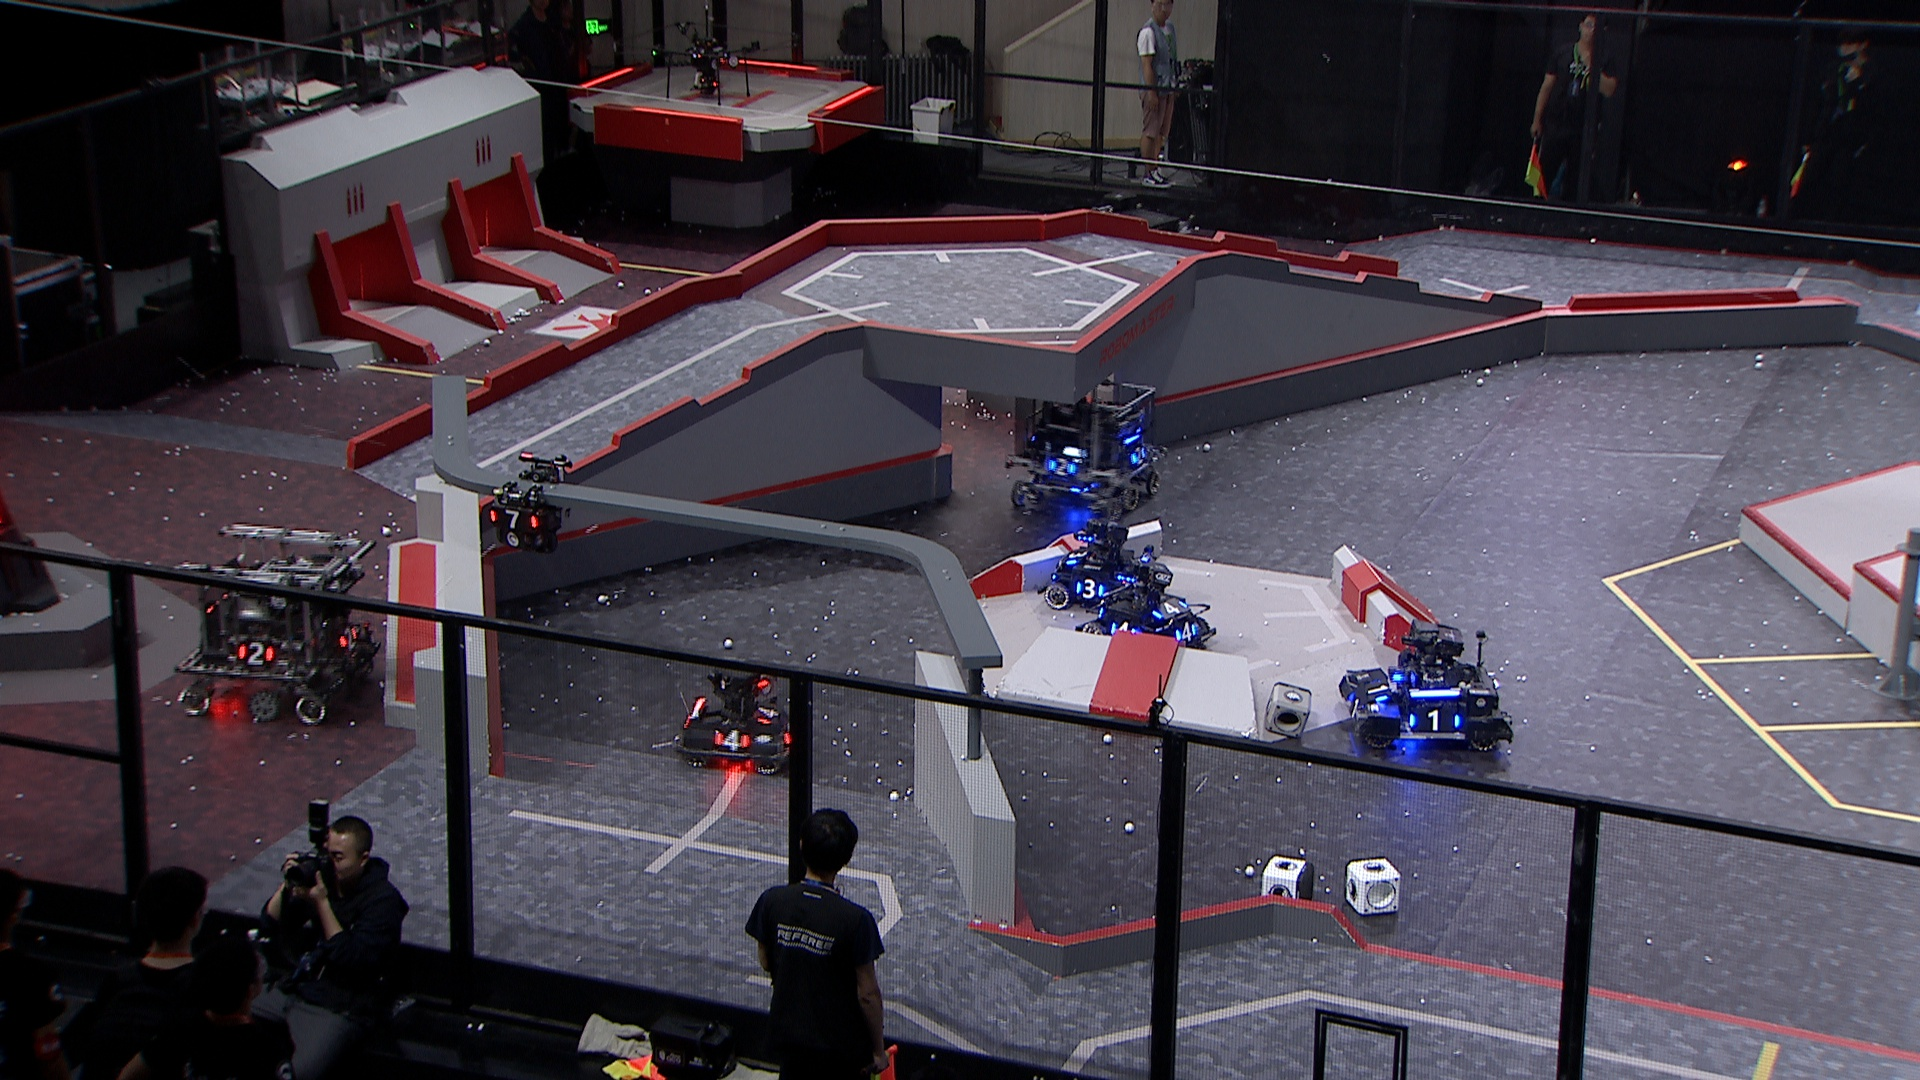armor: (1408, 705, 1462, 736), (485, 506, 541, 533), (1357, 673, 1394, 707), (712, 727, 754, 754), (749, 694, 783, 727), (237, 641, 276, 666), (1072, 578, 1109, 603), (1106, 616, 1139, 644), (334, 622, 361, 654), (1153, 597, 1188, 621), (1060, 542, 1091, 567), (1044, 456, 1077, 479), (1174, 621, 1199, 645), (1344, 692, 1364, 721), (1129, 444, 1149, 467)
car: (171, 517, 384, 727), (1338, 616, 1510, 757), (1010, 373, 1164, 524), (1069, 556, 1218, 659), (676, 657, 806, 774), (1040, 516, 1172, 615)
watcher: (477, 450, 574, 556)
